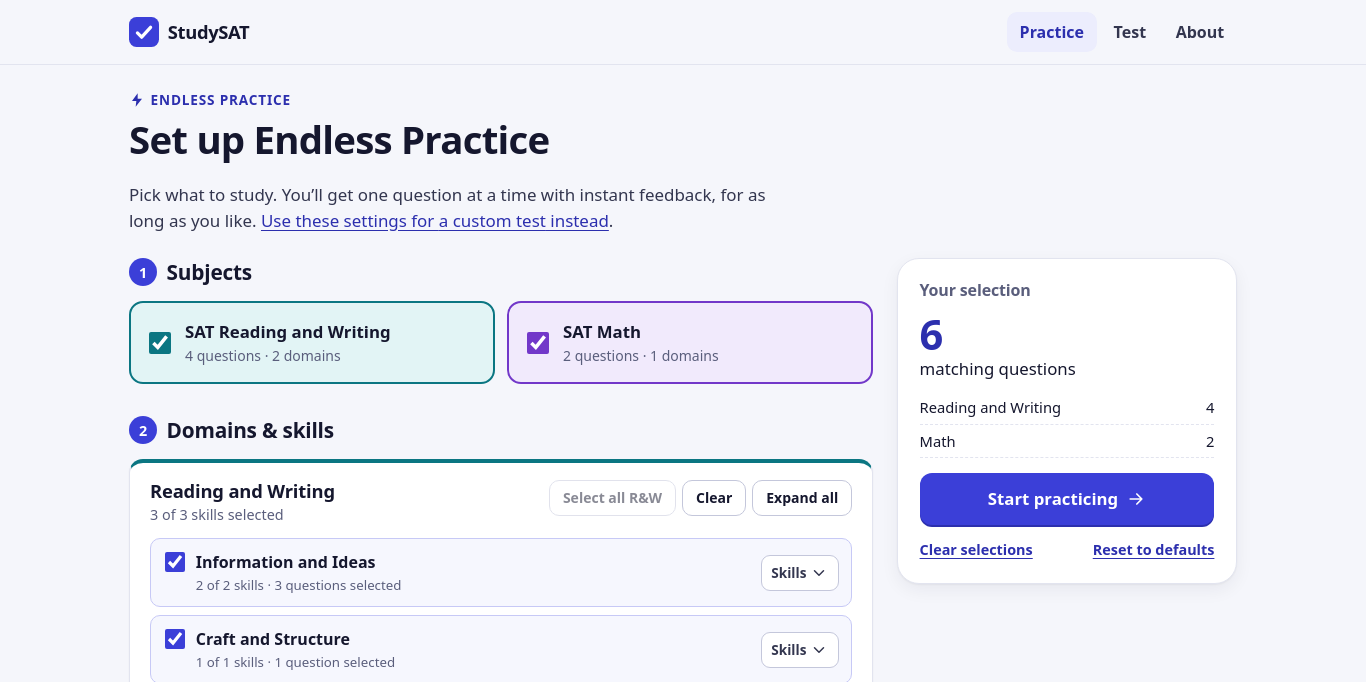
Test: setup › blocks starting with nothing selected
Check: the text "6" is shown, box [920,306,943,362]
Click the button "Clear selections".
click(976, 550)  # box [920,539,1033,562]
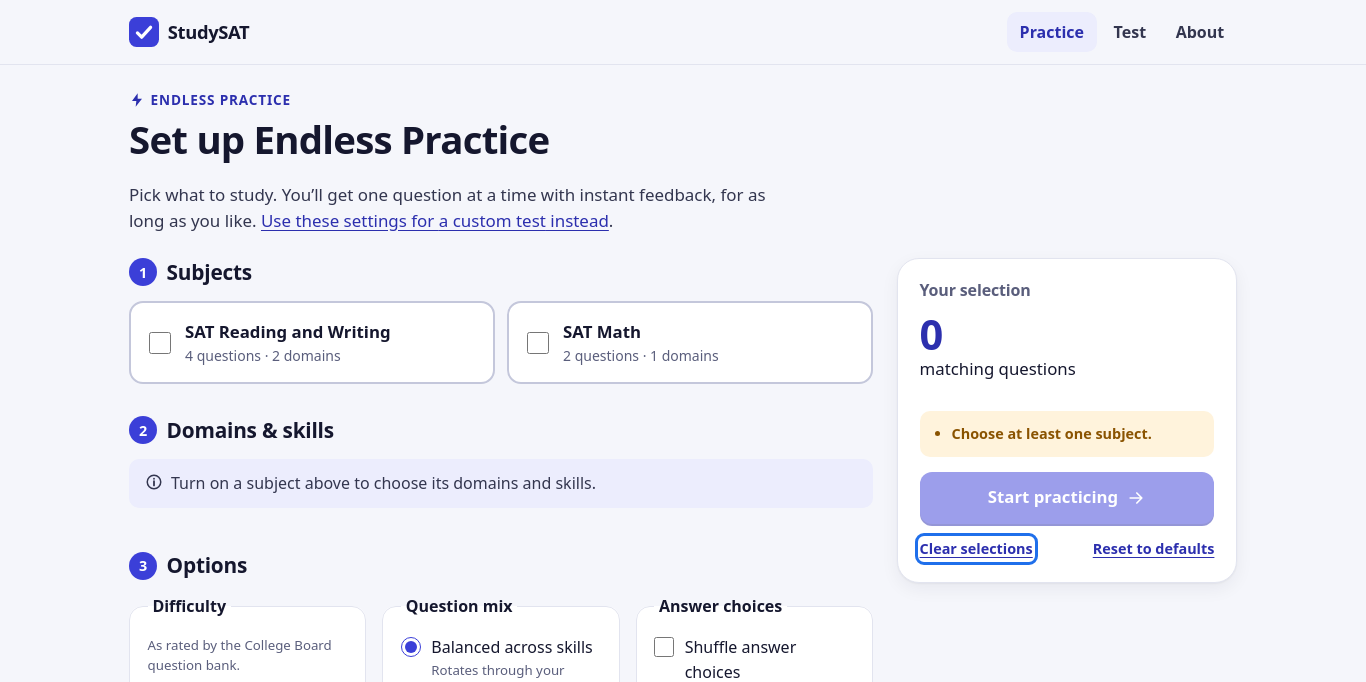
Check: the list item "Choose at least one subject." is shown, box [952,424,1152,443]
Check: the button "Start practicing" is disabled, box [920,472,1214,524]
